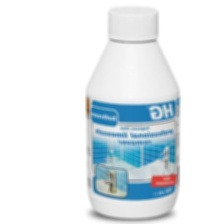cleaning_solution: (82, 2, 183, 222)
